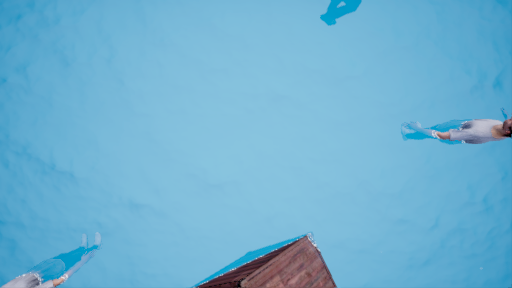person: (405, 111, 512, 154)
